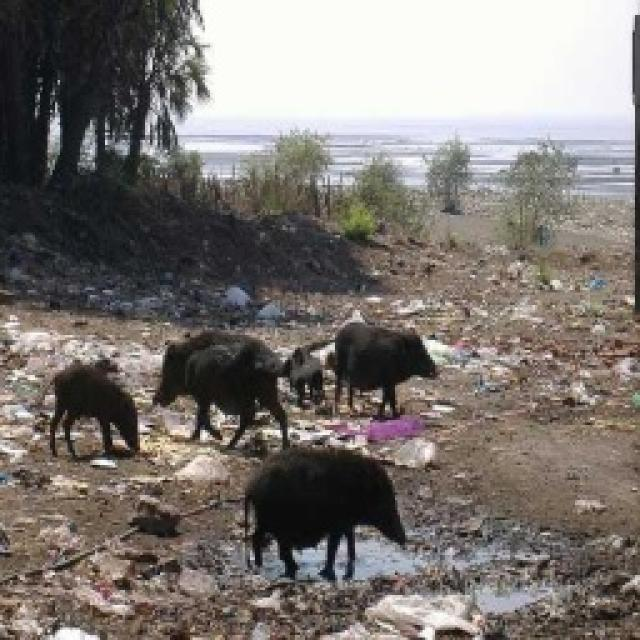pig: (241, 442, 409, 580), (150, 330, 290, 450), (330, 320, 438, 418), (40, 354, 140, 459)
